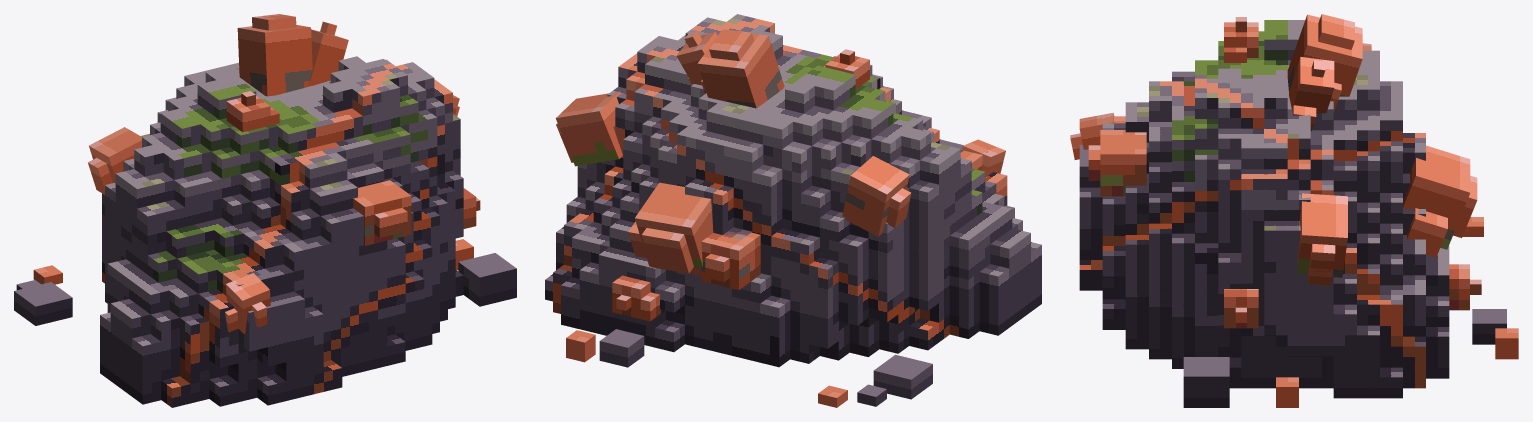
The model's file is copper_vein.glb.
3 views of the same model, side by side, from view 1: azimuth 30°, elevation 25°; view 2: azimuth 150°, elevation 25°; view 3: azimuth 270°, elevation 25° (orthographic). The views are drawn at different scales.
Parts seen in each view (by area): view 1: rock, ore_crown, rubble, ore_back, ore_left, ore_crown_side, ore_back_left, ore_top_nugget, ore_back_cap, ore_crown_cap, ore_left_cap, ore_right_small (+1 smaller); view 2: rock, ore_crown, rubble, ore_front, ore_right, ore_left, ore_front_small, ore_front_cap, ore_front_low, ore_crown_cap, ore_crown_side, ore_back_left (+6 smaller); view 3: rock, ore_front, rubble, ore_right, ore_back, ore_crown, ore_crown_side, ore_right_small, ore_front_knob, ore_crown_cap, ore_front_low, ore_top_nugget (+6 smaller).
Part boxes in pixels (bbox=[...]): rock: bbox=[100, 56, 463, 407]; ore_crown: bbox=[237, 25, 312, 96]; rubble: bbox=[14, 253, 516, 325]; ore_back: bbox=[353, 180, 411, 245]; ore_left: bbox=[89, 127, 141, 182]; ore_crown_side: bbox=[309, 29, 348, 85]; ore_back_left: bbox=[226, 273, 270, 333]; ore_top_nugget: bbox=[226, 96, 270, 132]; ore_back_cap: bbox=[374, 208, 407, 237]; ore_crown_cap: bbox=[252, 14, 296, 30]; ore_left_cap: bbox=[88, 158, 112, 194]; ore_right_small: bbox=[463, 188, 476, 228]; rock: bbox=[545, 14, 1041, 367]; ore_crown: bbox=[697, 30, 784, 108]; rubble: bbox=[599, 329, 932, 406]; ore_front: bbox=[635, 182, 713, 275]; ore_right: bbox=[555, 91, 622, 166]; ore_left: bbox=[842, 156, 909, 236]; ore_front_small: bbox=[701, 228, 760, 289]; ore_front_cap: bbox=[642, 228, 693, 273]; ore_front_low: bbox=[612, 275, 650, 318]; ore_crown_cap: bbox=[709, 29, 754, 60]; ore_crown_side: bbox=[676, 32, 717, 85]; ore_back_left: bbox=[962, 139, 1005, 177]; rock: bbox=[1079, 20, 1449, 398]; ore_front: bbox=[1403, 145, 1470, 249]; rubble: bbox=[1183, 309, 1506, 407]; ore_right: bbox=[1296, 193, 1347, 277]; ore_back: bbox=[1100, 130, 1146, 196]; ore_crown: bbox=[1287, 14, 1362, 96]; ore_crown_side: bbox=[1289, 57, 1334, 113]; ore_right_small: bbox=[1224, 289, 1258, 328]; ore_front_knob: bbox=[1407, 208, 1447, 257]; ore_crown_cap: bbox=[1318, 14, 1354, 49]; ore_front_low: bbox=[1449, 264, 1469, 310]; ore_top_nugget: bbox=[1224, 22, 1258, 57].
Size of the model in its own units: 1.32 by 0.8866 by 1.21.
1 material, 1 textured.
